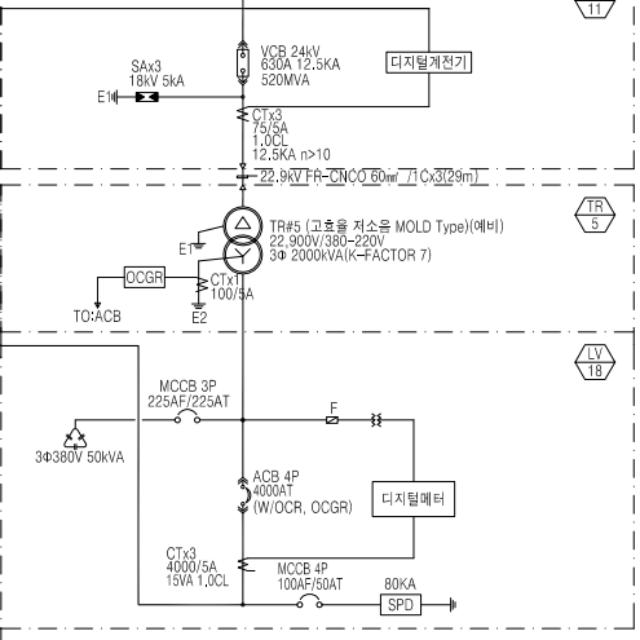ACB: (240, 485, 252, 505)
CB: (237, 49, 249, 76)
CT: (196, 276, 208, 294), (237, 105, 249, 121), (238, 558, 248, 572)
GND: (110, 88, 118, 106), (191, 242, 207, 250), (191, 302, 207, 310), (449, 597, 457, 613)
LA: (136, 91, 158, 102)
MCCB: (173, 408, 200, 424), (296, 593, 322, 609)
PF2: (326, 416, 338, 424)
PT: (371, 412, 382, 428)
SC: (64, 428, 86, 450)
TR: (223, 206, 263, 274)
